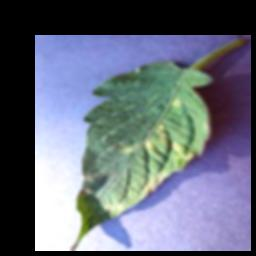Leaf_Mold: (171, 139, 197, 169), (142, 171, 170, 198), (153, 121, 169, 146), (171, 93, 182, 110), (144, 137, 153, 154)
